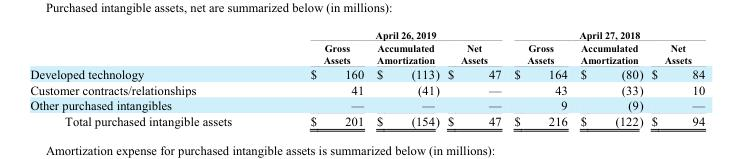table: (29, 28, 704, 127)
table column: (29, 28, 270, 127), (270, 28, 369, 127), (369, 28, 442, 127), (573, 28, 646, 127), (507, 28, 573, 127), (442, 28, 507, 127), (646, 28, 704, 127)
table column header: (29, 28, 704, 66)
table row: (29, 40, 704, 66), (29, 81, 704, 97), (29, 66, 704, 81), (29, 97, 704, 112), (29, 112, 704, 127), (29, 28, 704, 40)
table spanning cell: (270, 28, 507, 40), (507, 28, 704, 40)
